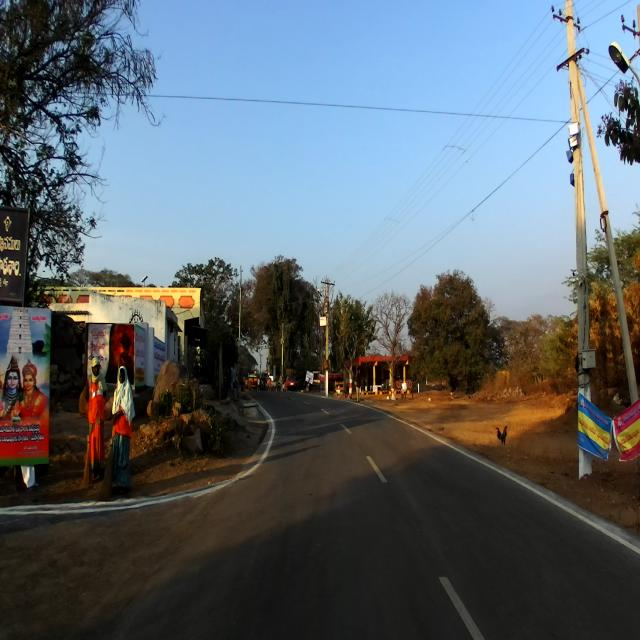electric pole ahead at: (550, 1, 640, 488)
